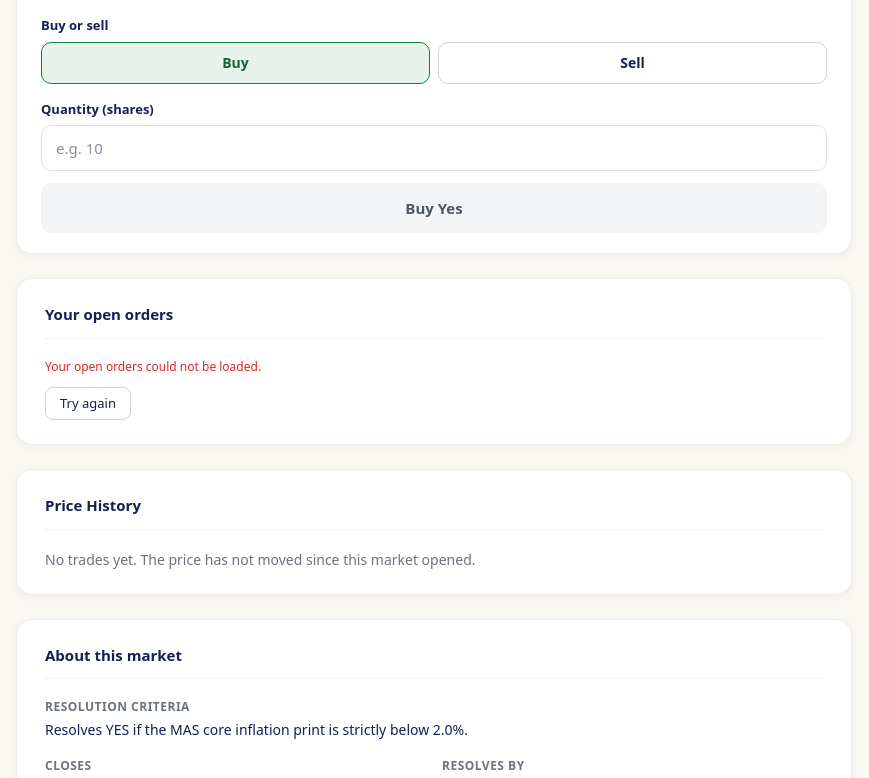
MarketDetailPage › limit orders › says the open orders could not be loaded, and loads them on a retry
(page scrolled)
Expected: the message reads "Your open orders could not be loaded.", [45,358,261,375]
Click the button "Try again": click(88, 404) [45,387,131,420]
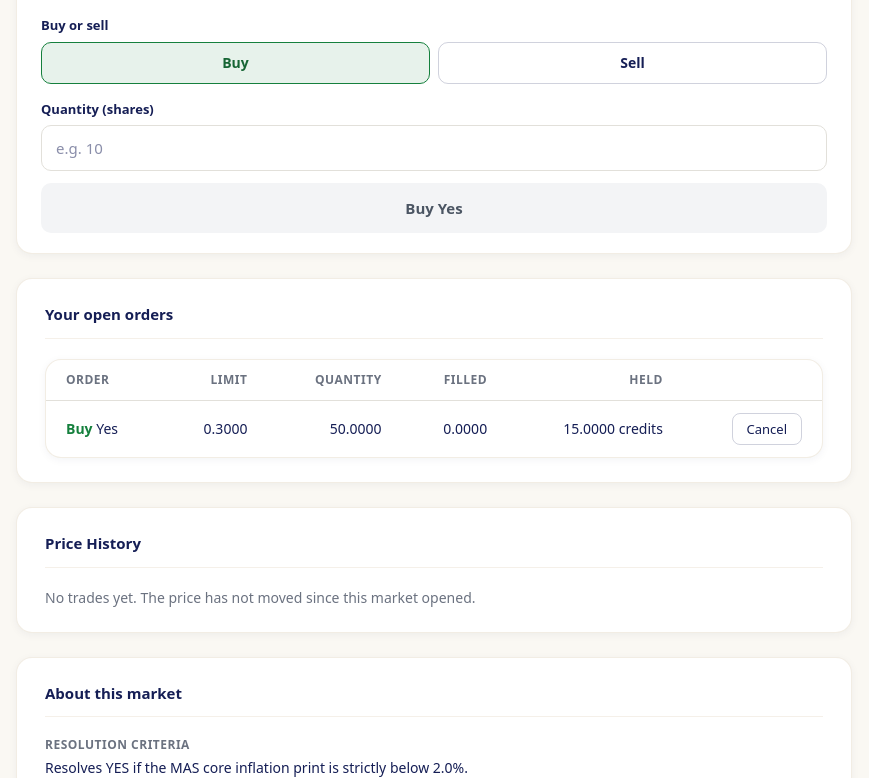
Expected: the button with aria-label "cancel buy yes" is shown, [732,413,802,445]
Result: the message "Your open orders could not be loaded." is gone
